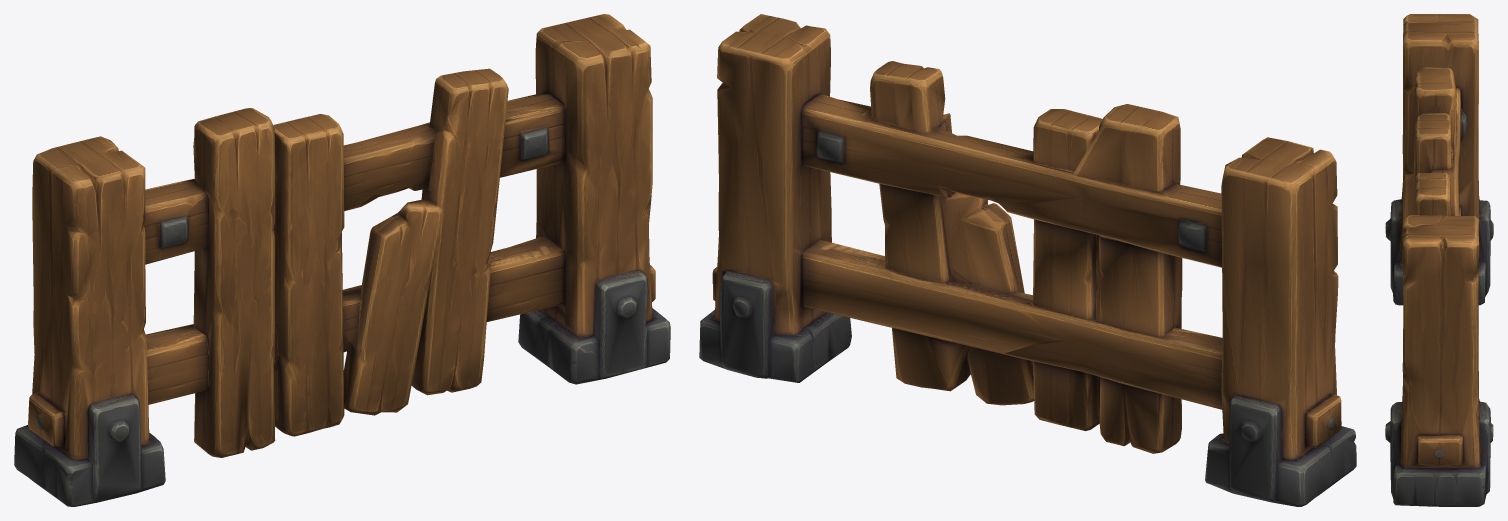
The model's file is Fence2.fbx.
The picture shows the model from 3 angles, left to right: view 1: azimuth 30°, elevation 25°; view 2: azimuth 150°, elevation 25°; view 3: azimuth 270°, elevation 25°; orthographic projection. The views are drawn at different scales.
Parts seen in each view (by area): view 1: Mesh_0; view 2: Mesh_0; view 3: Mesh_0.
Boxes of the visible parts, x1,y1,x2,y2 form: Mesh_0: (14, 14, 670, 506); Mesh_0: (699, 14, 1356, 506); Mesh_0: (1385, 14, 1493, 506).
Bounding box in the file's own units: 191 × 97.53 × 36.16.
1 material, 1 textured.
